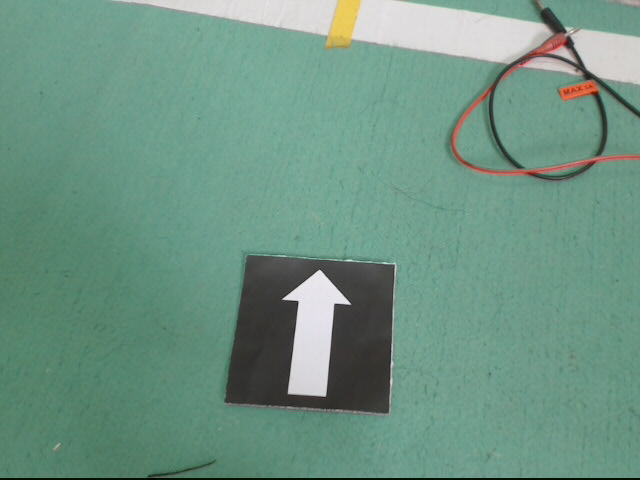straight: (223, 251, 396, 416)
